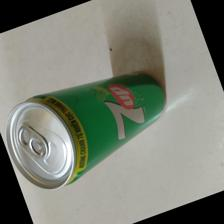7up: (5, 72, 165, 190)
